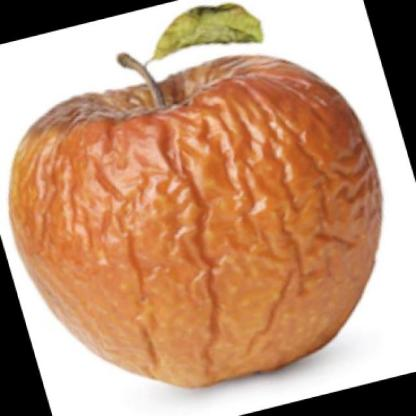defect: (6, 52, 392, 392)
